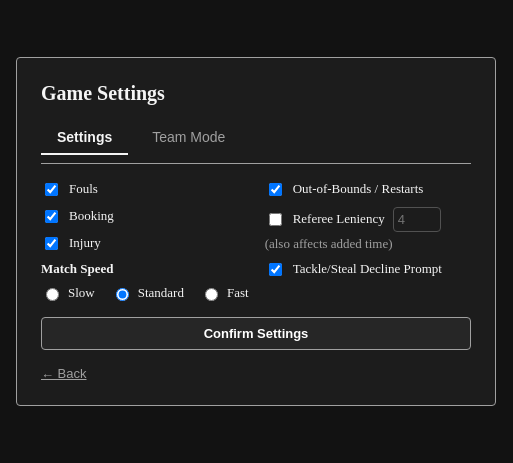
Test: GameSettingsScreen — Team Mode tab (D-04/D-05/D-06) › turning the Draft toggle back off hides the Draft Pool section again
The width and height of the screenshot is (513, 463).
Click the tab "Team Mode" at (189, 138), box [136,120,241,154]
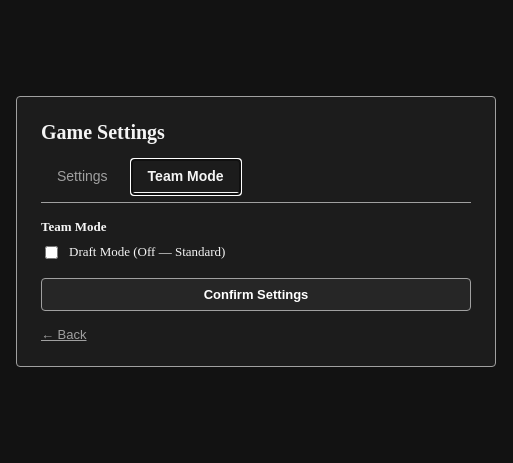
Click the switch at (52, 252), box [45,246,58,258]
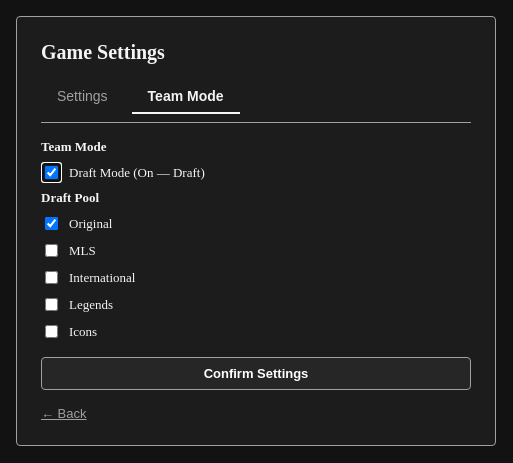
Result: the text "Draft Pool" is shown at [41,190,99,205]
Click the switch at (52, 172), box [45,166,58,179]
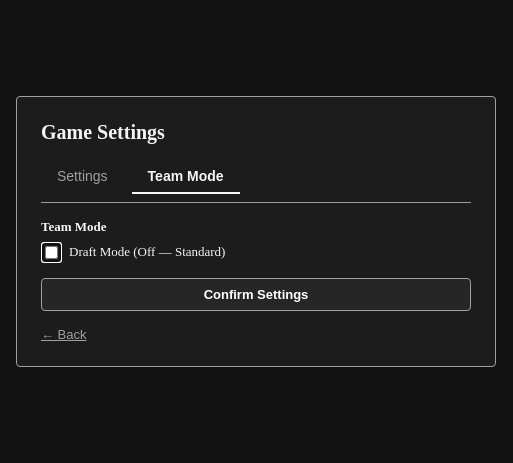
Result: the text "Draft Pool" is gone
